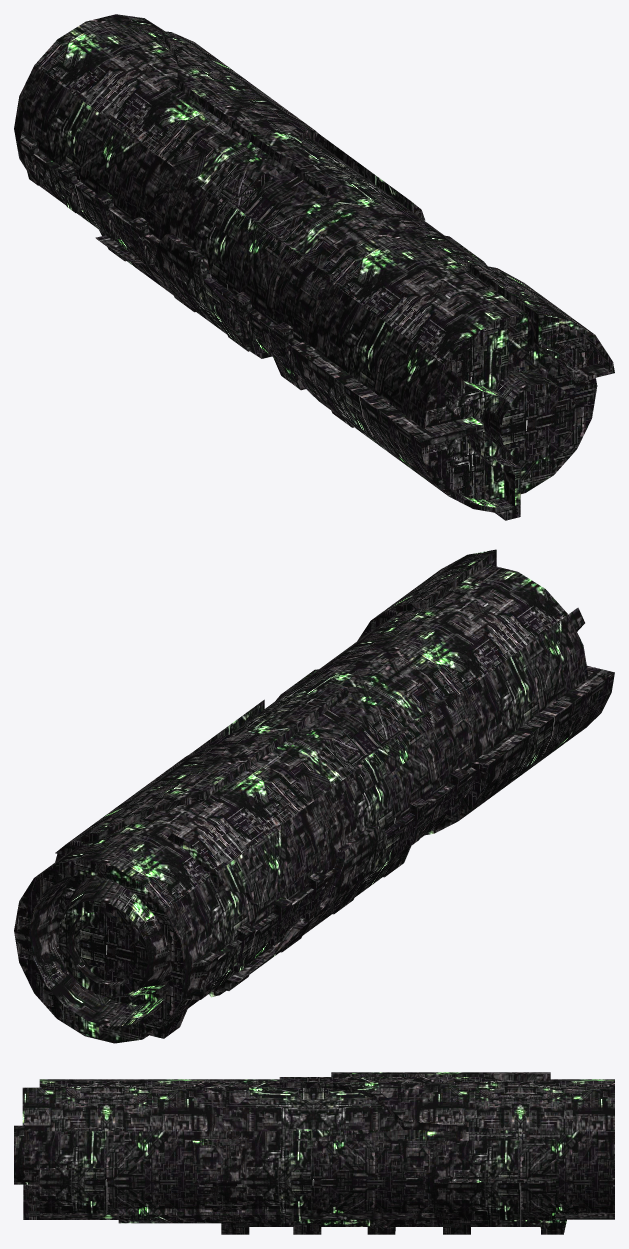
Rendered from Borg_Cylinder.fbx.
3 renders of one model, top to bottom at view 1: azimuth 30°, elevation 25°; view 2: azimuth 150°, elevation 25°; view 3: azimuth 270°, elevation 25°, orthographic. The views are drawn at different scales.
Parts seen in each view (by area): view 1: Borg_Cylinder; view 2: Borg_Cylinder; view 3: Borg_Cylinder.
Part boxes in pixels (x1,y1,x2,y2): Borg_Cylinder: [14, 14, 614, 520]; Borg_Cylinder: [14, 549, 614, 1043]; Borg_Cylinder: [14, 1072, 614, 1234].
Bounding box in the file's own units: 225 × 217 × 821.
Materials: 1 (1 with a texture image).
